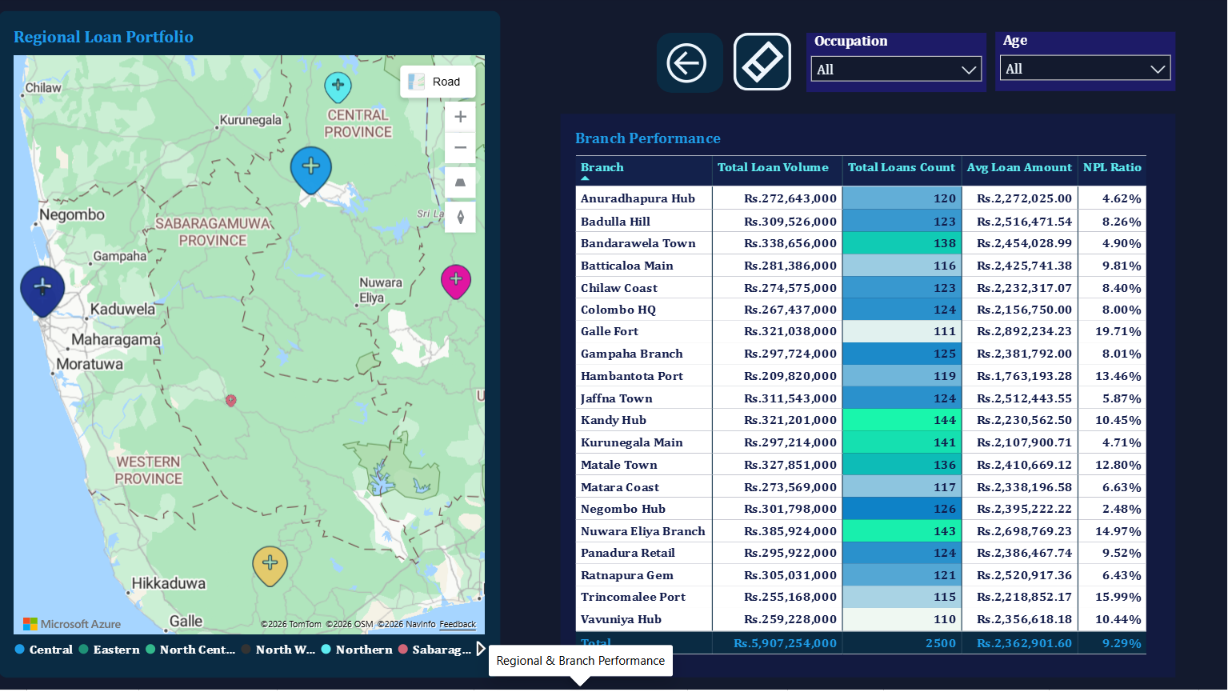

This screenshot's page, from the dashboard's own definition file:
{"tool":"powerbi","page":{"name":"Regional & Branch Performance","canvas":[1280,720],"ordinal":3},"visuals":[{"type":"azureMap","title":"Regional Loan Portfolio","fields":{"Category":["Branch_Details.Map Location"],"Series":["Branch_Details.Region"],"Size":["Key Measures.Total Loan Volume"]},"box":[0,14.4,521.3,692.7],"z":0},{"type":"tableEx","title":"Branch Performance","fields":{"Values":["Branch_Details.Branch","Key Measures.Total Loan Volume","Key Measures.Total Loans Count","Key Measures.Avg Loan Amount","Key Measures.NPL Ratio"]},"box":[584.3,121.2,639.1,585.8],"z":1000},{"type":"slicer","fields":{"Values":["Customer_Details.age"]},"box":[1036.1,36.4,187.1,61.3],"z":2000},{"type":"slicer","fields":{"Values":["Customer_Details.Occupation type"]},"box":[839.7,37.4,187.1,61.3],"z":3000},{"type":"actionButton","box":[763.9,37.4,60.3,60.3],"z":4000},{"type":"actionButton","box":[683.8,37.4,69.6,62.4],"z":5000}]}

Visuals, with their boxes in screenshot pixels (x1, y1, x2, y2), scaled from the page's 1280x720 canvas onto the 1228x691 screenshot:
"Regional Loan Portfolio" azureMap: crop(0, 14, 500, 679)
"Branch Performance" tableEx: crop(561, 116, 1174, 679)
slicer - Customer_Details.age: crop(994, 35, 1174, 94)
slicer - Customer_Details.Occupation type: crop(806, 36, 985, 95)
actionButton: crop(733, 36, 791, 94)
actionButton: crop(656, 36, 723, 96)
